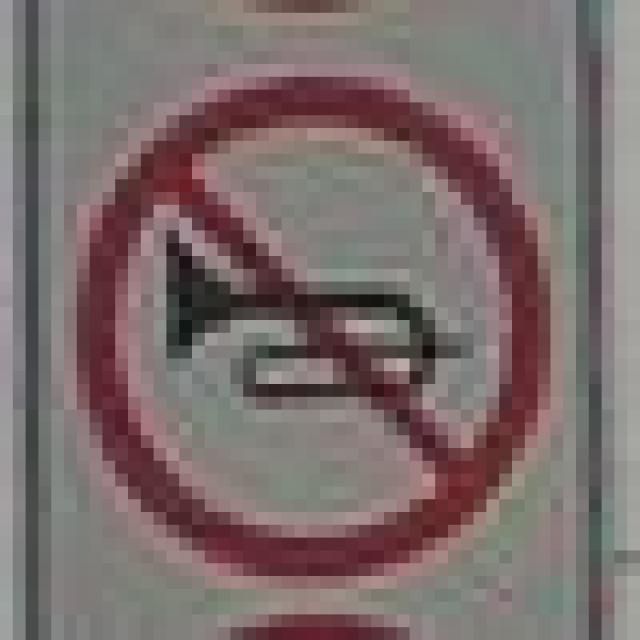HORN_PROHIBITED: (64, 51, 563, 576)
